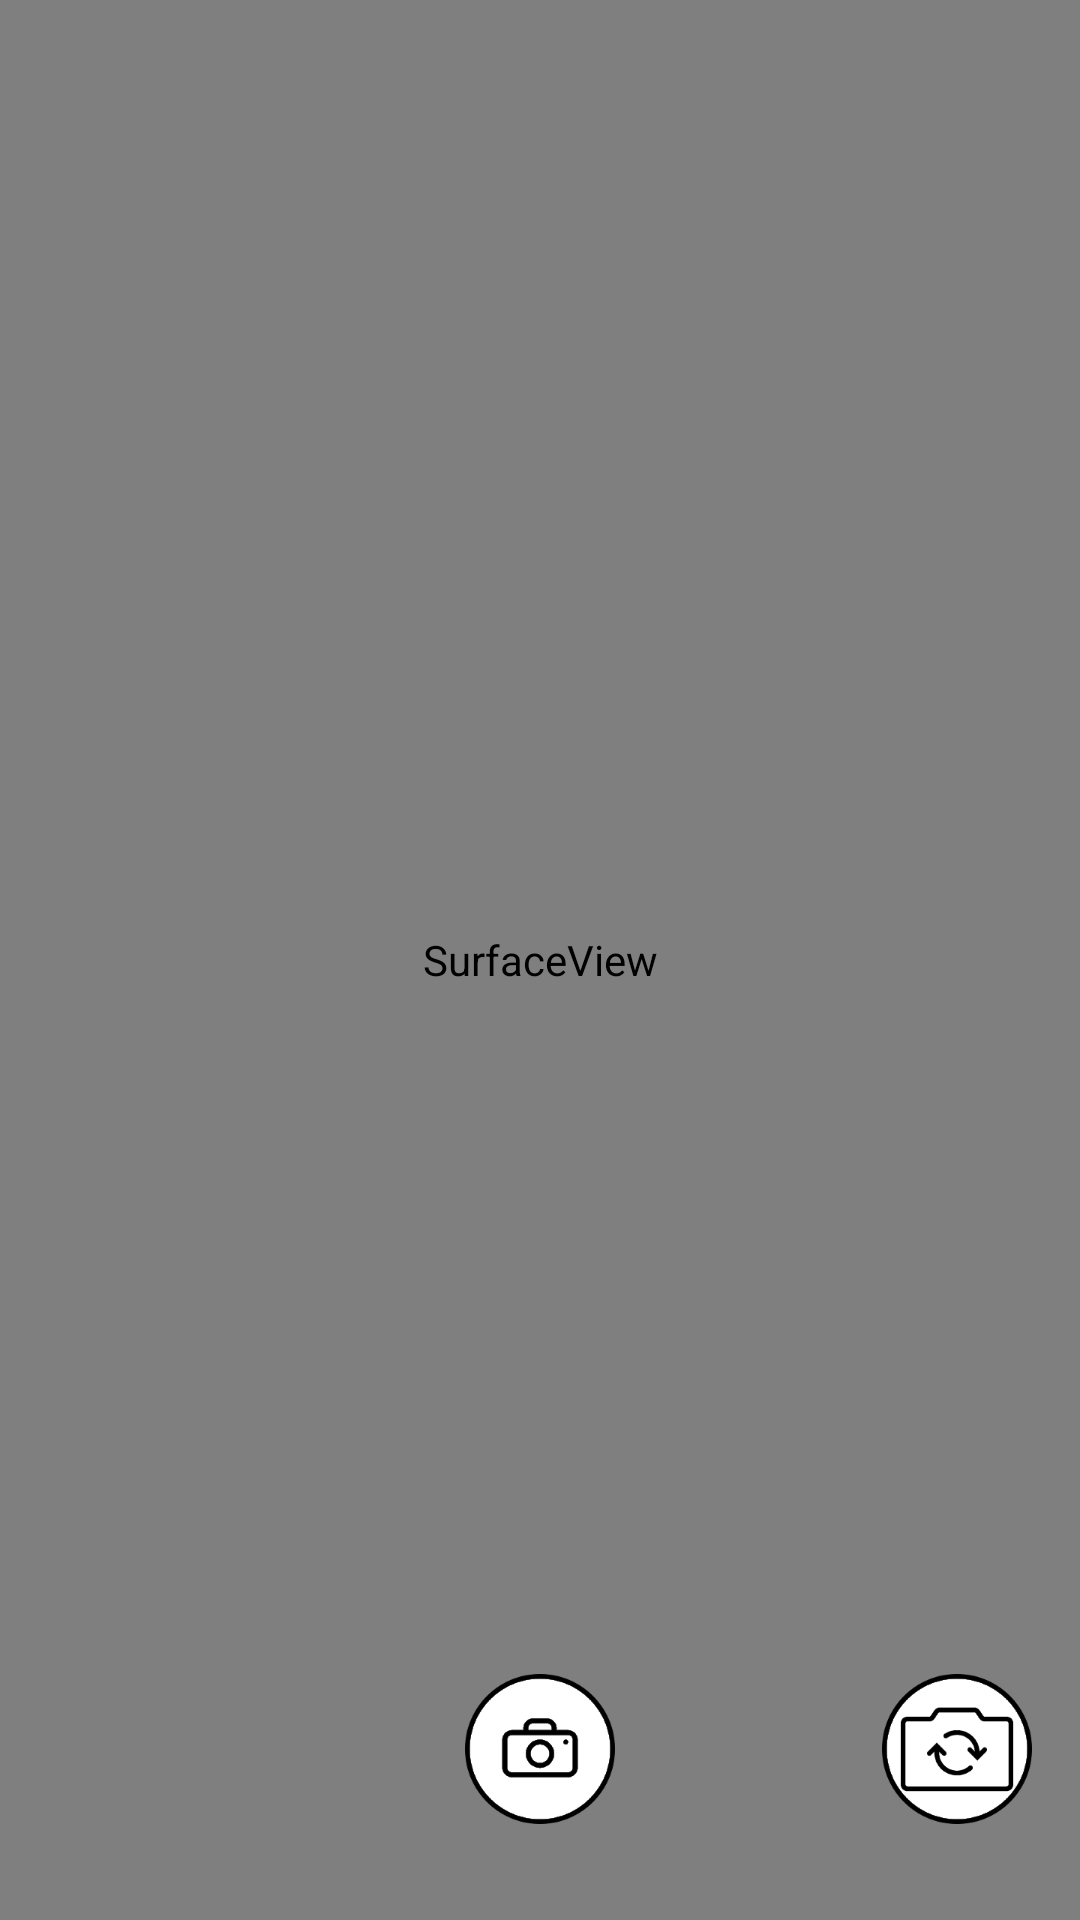

Where to tap for icons on this 1080×1920 app screen, as point (x, y):
SWITCH: point (957, 1749)
TAKE: point (540, 1749)
